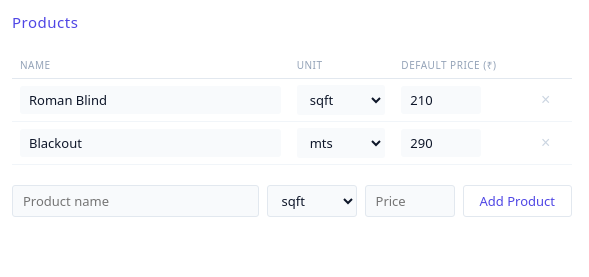
Test: ManageProducts › adds a new product when form submitted
Expected: the 1st field showing "Roman Blind" is shown, [20,86,281,114]
Step 1. Type "Sheer Curtain" into the field with placeholder "Product name" → {"x": 135, "y": 201}, box [12,185,258,217]
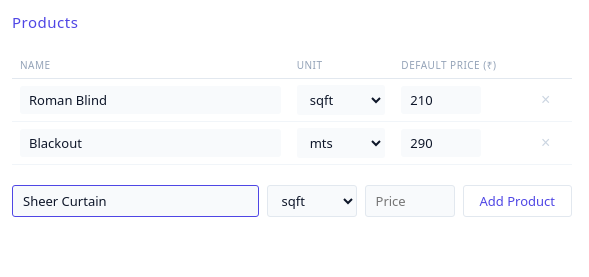
Step 2. Click the button "Add Product" → {"x": 517, "y": 201}, box [462,185,572,217]
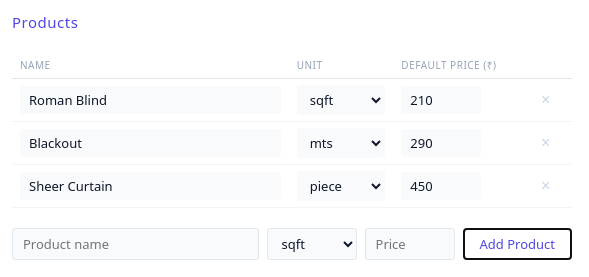
Now the 3rd field showing "Sheer Curtain" is shown, box [20,172,281,200]
